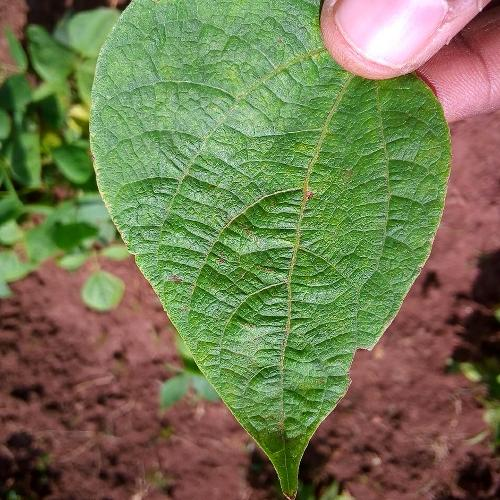mozaik: (325, 324, 375, 388)
sehat: (117, 23, 351, 263)
